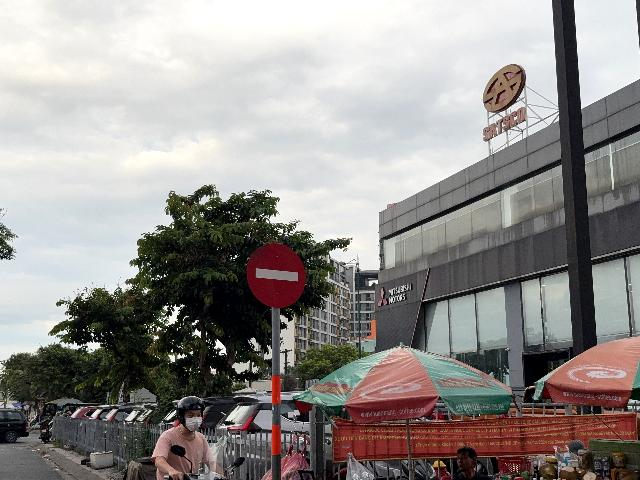cam-di-nguoc-chieu: (247, 243, 305, 308)
